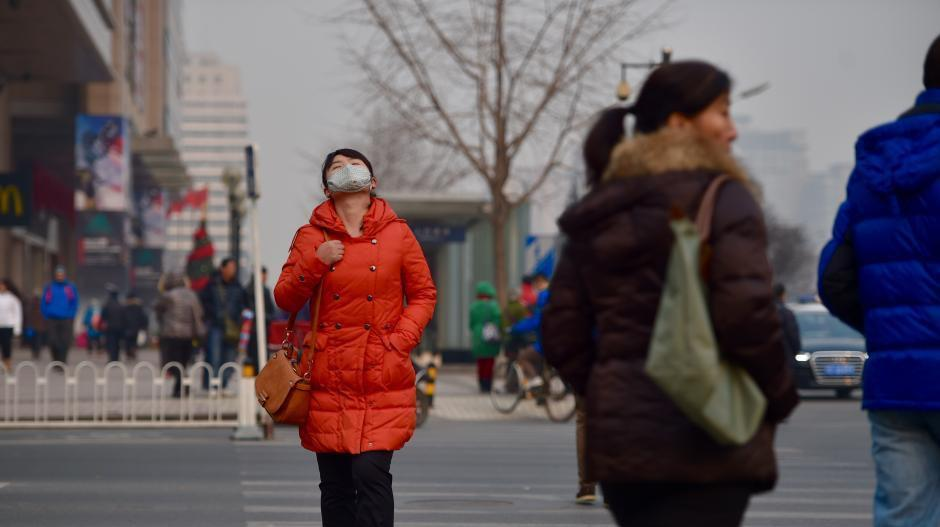NONE: (689, 96, 742, 164)
OK: (328, 155, 371, 198)
